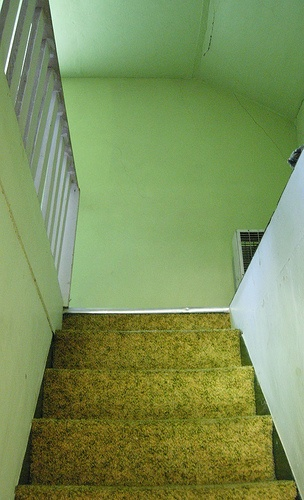stairs_up: (16, 309, 297, 500)
